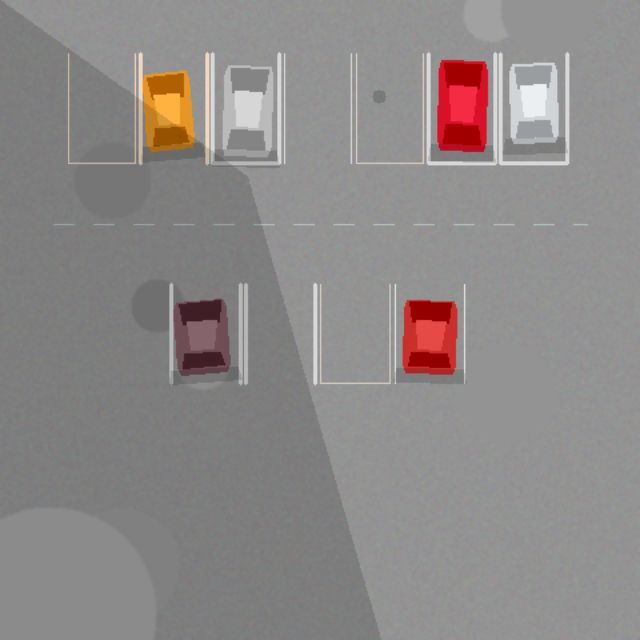space-empty: (68, 53, 135, 163), (284, 53, 351, 163), (356, 53, 423, 163), (245, 284, 315, 383), (320, 284, 389, 383)
space-occupied: (140, 53, 207, 163), (212, 53, 279, 163), (428, 53, 495, 163), (500, 53, 567, 163), (171, 284, 240, 383), (395, 284, 464, 383)
